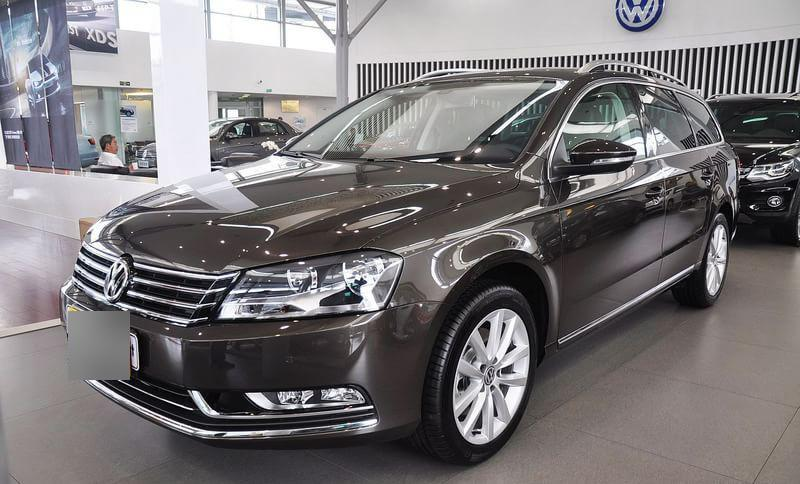Wagon: (58, 59, 741, 467)
